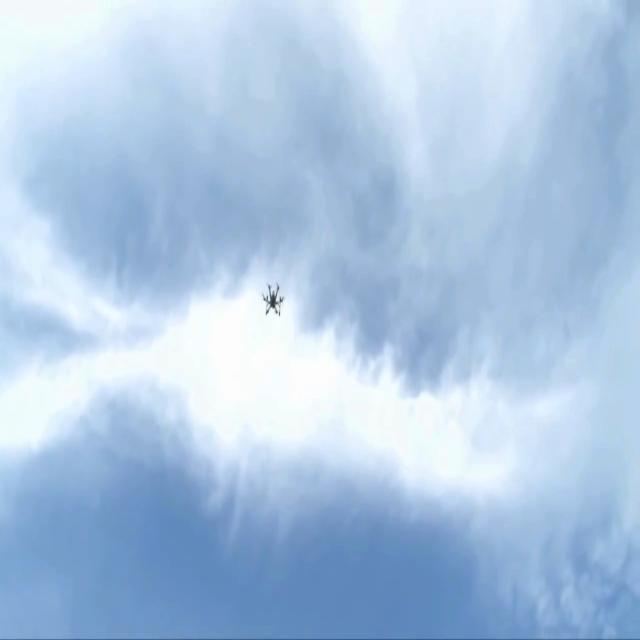drone: (262, 282, 284, 316)
